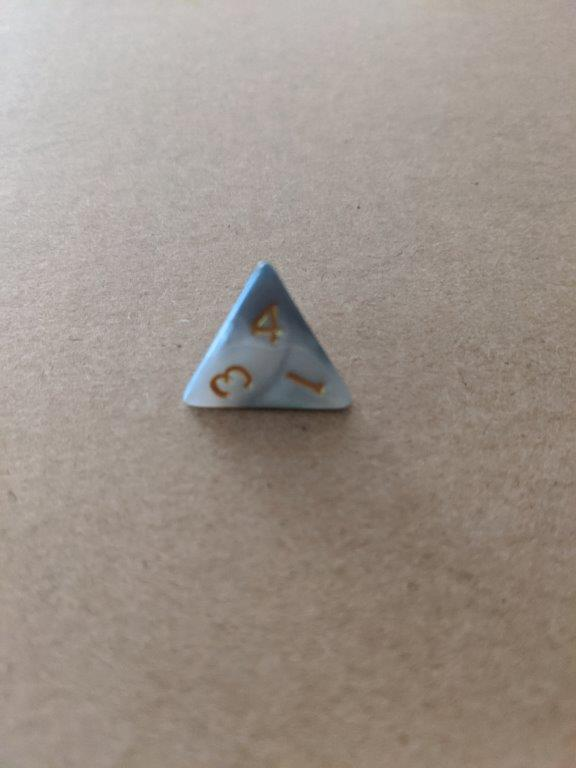d4-4: (177, 260, 357, 418)
